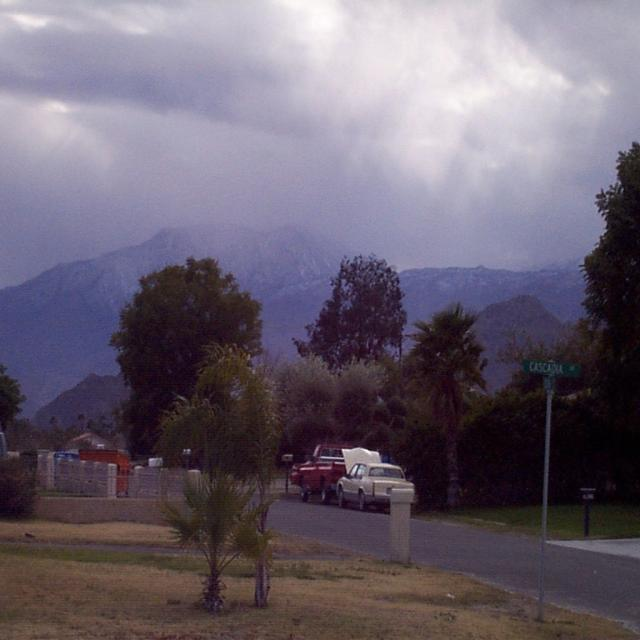car: (335, 442, 411, 512)
